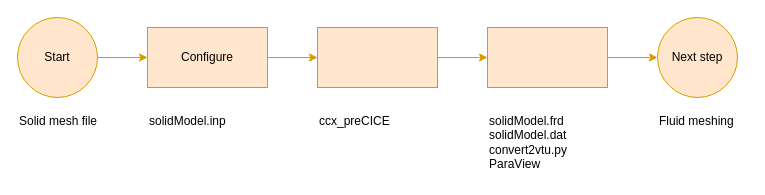
The diagram is 765 pixels wide and 195 high, and some of its shapes have lost their labels. Here are the shapes that lost their labels. From the top down, the centre of each, then its label:
(377,57): Run
(547,57): Analyze
